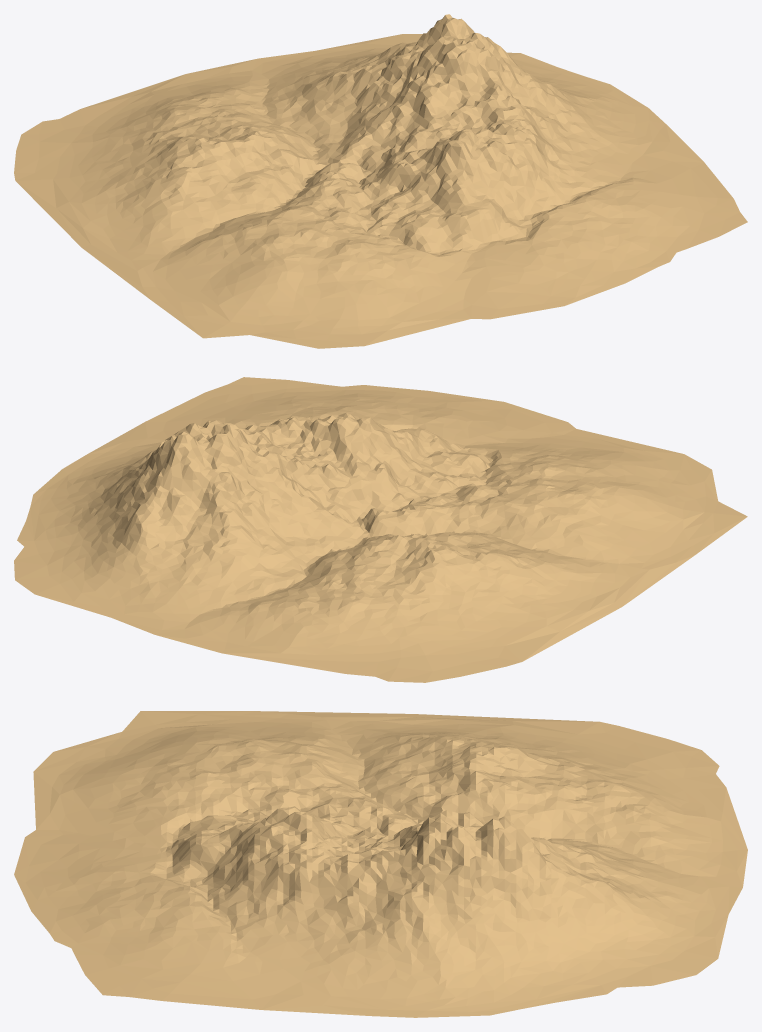
The model's file is MT_Island_L_f_02_LOD.fbx.
3 views of the same model, one above another, from view 1: azimuth 30°, elevation 25°; view 2: azimuth 150°, elevation 25°; view 3: azimuth 270°, elevation 25° (orthographic). The views are drawn at different scales.
Parts seen in each view (by area): view 1: MT_Island_L_f_02_LOD0; view 2: MT_Island_L_f_02_LOD0; view 3: MT_Island_L_f_02_LOD0.
Part boxes in pixels (box(x1,y1,x2,y2)): MT_Island_L_f_02_LOD0: box(14, 14, 747, 348); MT_Island_L_f_02_LOD0: box(14, 377, 747, 682); MT_Island_L_f_02_LOD0: box(14, 711, 747, 1017).
Size of what is drawn, in the model's own units: 19626 by 3441 by 19833.
